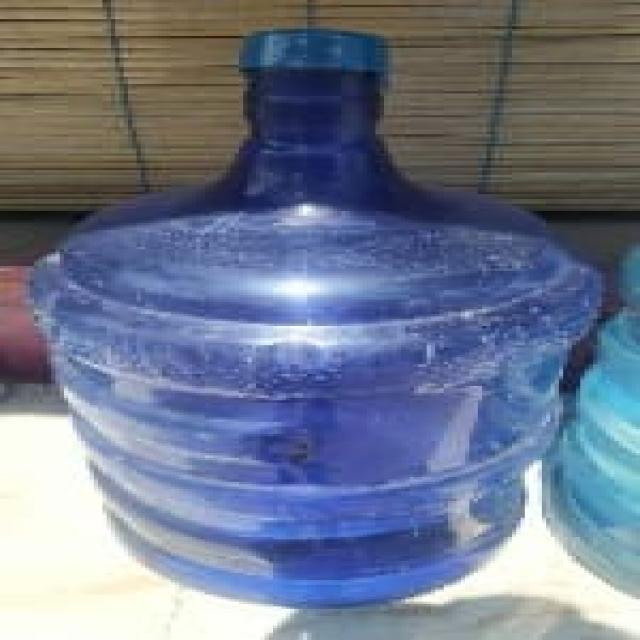HDPE Plastic: (20, 26, 610, 612), (541, 234, 640, 607)
